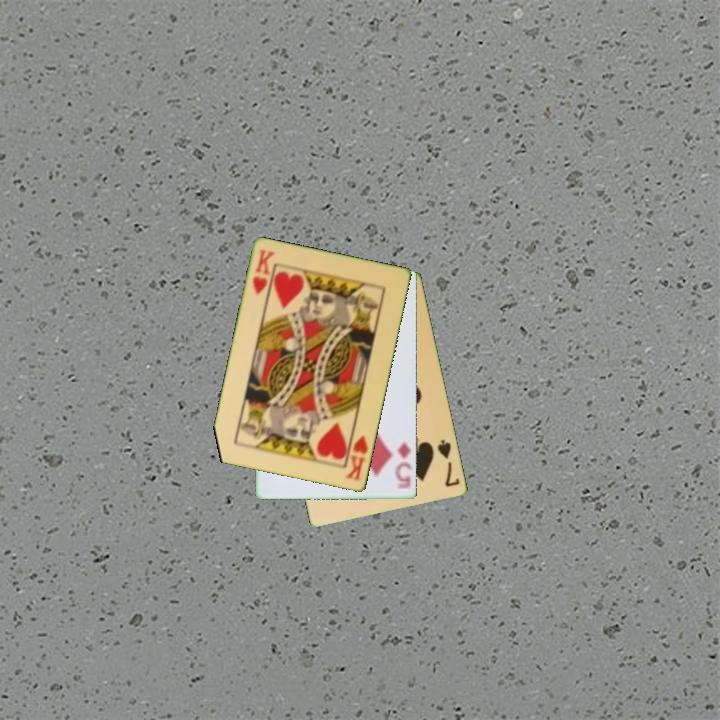5d: (392, 438, 415, 492)
7s: (434, 436, 463, 490)
Kh: (342, 427, 371, 484), (249, 245, 277, 298)
